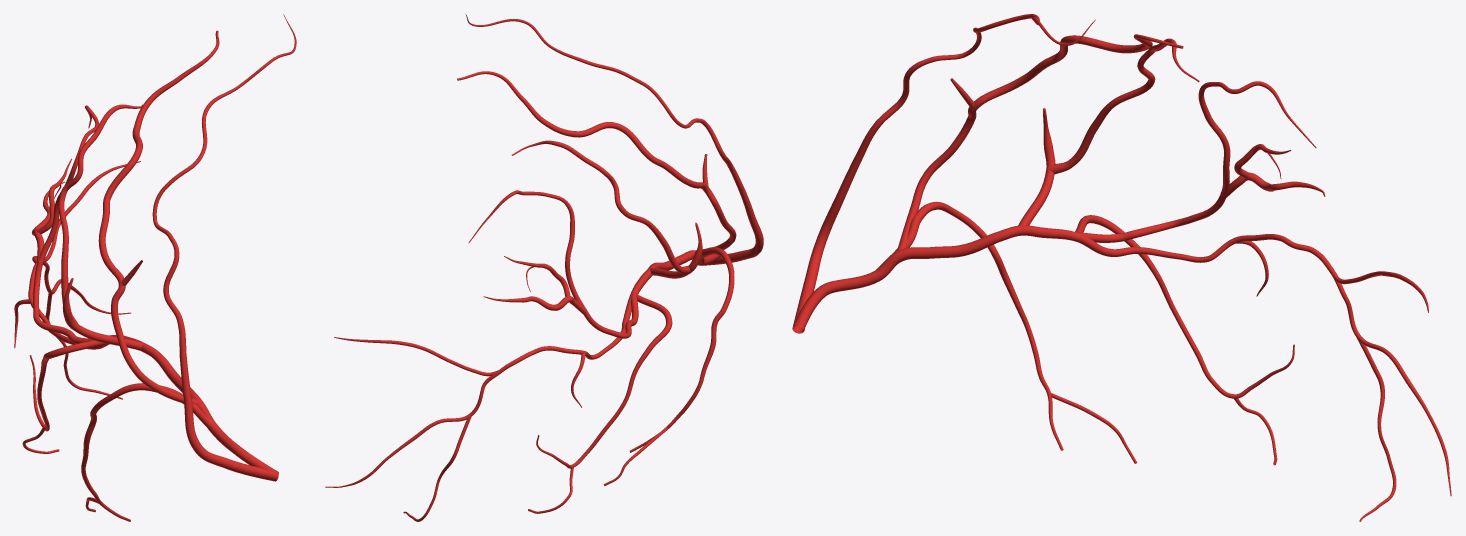
Rendered from circulatorio-middle-cerebral-artery-m3-segment-r.glb.
The picture shows the model from 3 angles, left to right: view 1: azimuth 30°, elevation 25°; view 2: azimuth 150°, elevation 25°; view 3: azimuth 270°, elevation 25°; orthographic projection. The views are drawn at different scales.
Visible parts, largest first — view 1: Artery of central sulcus.r, Postcentral arterial branch.r, Posterior parietal artery.r, Parietal branches of middle cerebral artery.r, Middle cerebral artery (M3-segment).r, Temporo-occipital branch.r, Temporal branches of middle cerebral artery.r, Posterior temporal branch.r; view 2: Posterior parietal artery.r, Postcentral arterial branch.r, Temporo-occipital branch.r, Artery of central sulcus.r, Parietal branches of middle cerebral artery.r, Temporal branches of middle cerebral artery.r, Posterior temporal branch.r, Middle cerebral artery (M3-segment).r; view 3: Middle cerebral artery (M3-segment).r, Posterior parietal artery.r, Artery of central sulcus.r, Temporo-occipital branch.r, Postcentral arterial branch.r, Parietal branches of middle cerebral artery.r, Temporal branches of middle cerebral artery.r, Posterior temporal branch.r.
Part boxes in pixels (x1,y1,x2,y2): Artery of central sulcus.r: (152, 14, 296, 481); Postcentral arterial branch.r: (98, 30, 219, 405); Posterior parietal artery.r: (32, 105, 112, 343); Parietal branches of middle cerebral artery.r: (58, 104, 143, 350); Middle cerebral artery (M3-segment).r: (45, 321, 278, 474); Temporo-occipital branch.r: (28, 161, 140, 399); Temporal branches of middle cerebral artery.r: (81, 383, 212, 521); Posterior temporal branch.r: (22, 340, 107, 453); Posterior parietal artery.r: (468, 190, 638, 338); Postcentral arterial branch.r: (457, 71, 736, 254); Temporo-occipital branch.r: (325, 337, 592, 521); Artery of central sulcus.r: (465, 14, 763, 265); Parietal branches of middle cerebral artery.r: (511, 140, 702, 278); Temporal branches of middle cerebral artery.r: (603, 247, 734, 485); Posterior temporal branch.r: (528, 293, 672, 513); Middle cerebral artery (M3-segment).r: (591, 250, 720, 359); Middle cerebral artery (M3-segment).r: (793, 225, 1208, 331); Posterior parietal artery.r: (1077, 81, 1325, 242); Artery of central sulcus.r: (792, 14, 1095, 333); Temporo-occipital branch.r: (1207, 234, 1451, 521); Postcentral arterial branch.r: (897, 34, 1183, 250); Parietal branches of middle cerebral artery.r: (1018, 38, 1199, 226); Temporal branches of middle cerebral artery.r: (875, 201, 1136, 463); Posterior temporal branch.r: (1075, 215, 1294, 465).
Size of the model in its own units: 0.0562 by 0.1028 by 0.1135.
